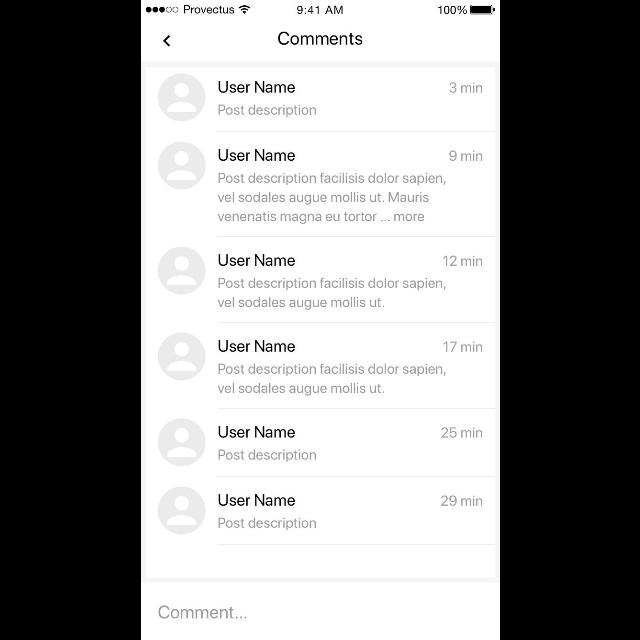icon: (157, 140, 206, 190), (157, 332, 206, 381), (156, 72, 204, 121), (157, 246, 206, 294), (156, 486, 204, 534), (156, 419, 204, 466), (160, 34, 170, 48)
input: (140, 582, 500, 640)
text: (216, 172, 446, 224), (215, 362, 445, 396), (215, 278, 445, 310), (216, 104, 316, 118), (216, 449, 316, 463), (216, 517, 316, 531), (277, 30, 363, 46), (216, 424, 294, 440), (215, 148, 295, 162), (217, 252, 296, 266), (217, 492, 296, 506), (217, 80, 295, 94), (216, 339, 294, 353), (440, 254, 484, 268), (440, 493, 482, 507), (438, 427, 484, 439), (442, 341, 482, 354), (448, 148, 484, 162), (448, 82, 482, 94)
uppertaskbar: (140, 1, 500, 16)
